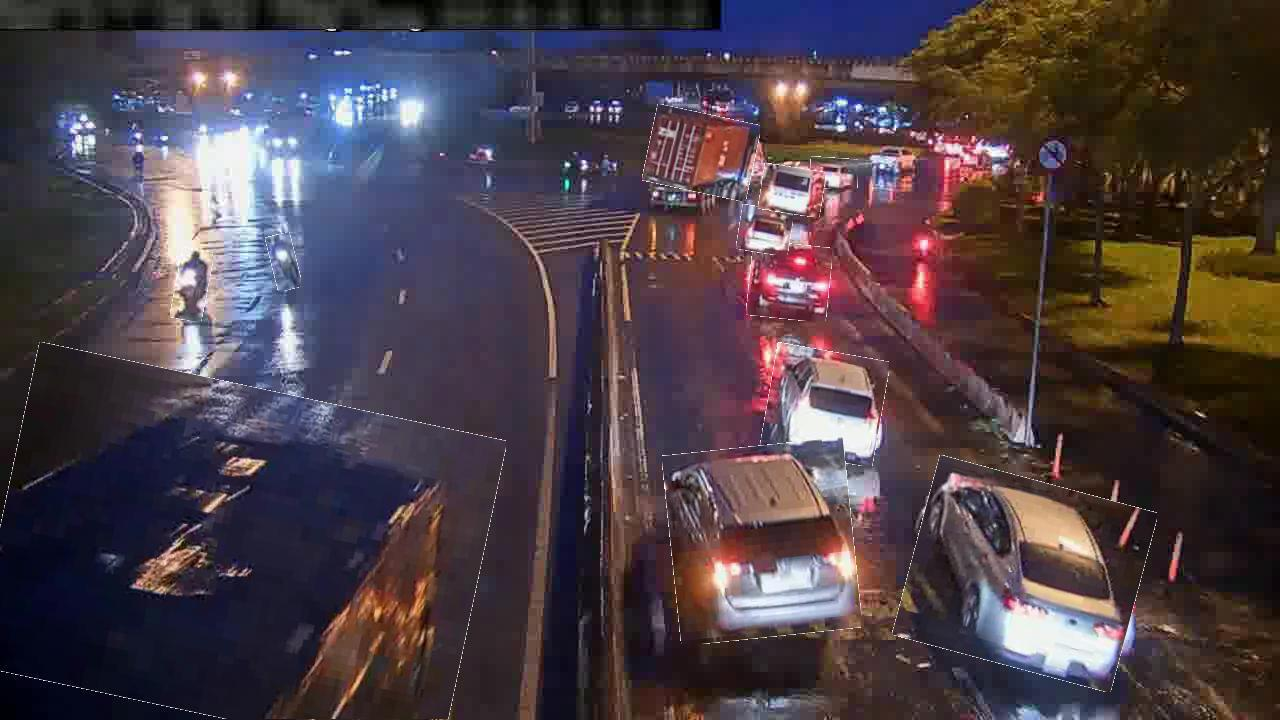14: (760, 166, 824, 216)
8: (0, 365, 493, 719), (646, 109, 758, 197)
container: (902, 468, 1148, 680), (666, 442, 858, 641), (764, 347, 886, 463), (748, 242, 832, 321), (738, 206, 793, 255), (810, 157, 858, 190)
motorbike: (173, 248, 211, 321), (268, 233, 299, 291)
